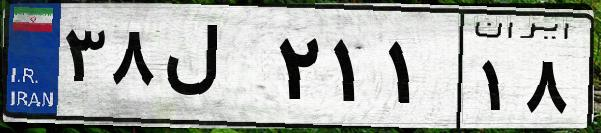1: (385, 28, 445, 110), (330, 28, 385, 110), (475, 38, 525, 113)
2: (270, 28, 330, 110)
3: (57, 26, 110, 100)
8: (525, 38, 570, 115), (110, 28, 158, 98)
ل: (158, 20, 270, 120)
